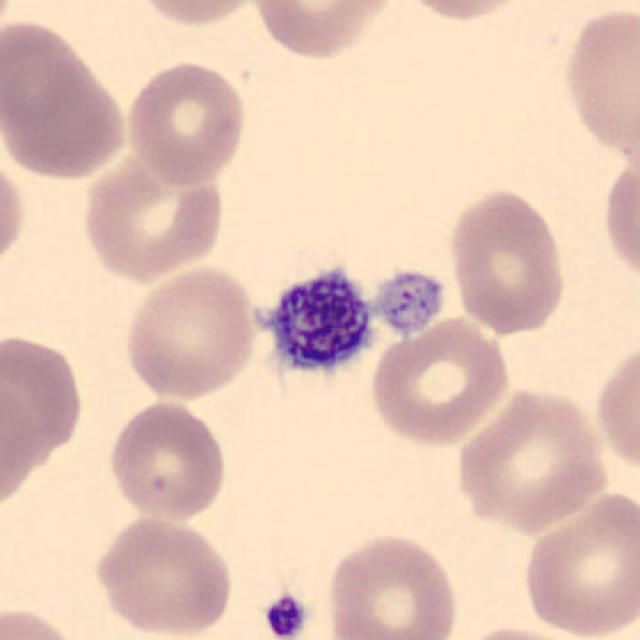Platelets: (250, 258, 378, 390), (372, 266, 449, 339), (259, 590, 309, 640)
RBC: (450, 384, 613, 534), (0, 12, 133, 183), (78, 150, 230, 284), (366, 314, 514, 449), (119, 263, 261, 402), (444, 183, 570, 337), (89, 513, 236, 638), (518, 487, 638, 638), (121, 56, 251, 188), (103, 396, 231, 524), (0, 328, 87, 507), (322, 529, 462, 640), (558, 4, 638, 162), (249, 0, 398, 62), (592, 334, 638, 482), (599, 148, 638, 293), (128, 0, 268, 30), (0, 146, 30, 278), (391, 0, 539, 25), (0, 603, 85, 640), (448, 622, 596, 640)
